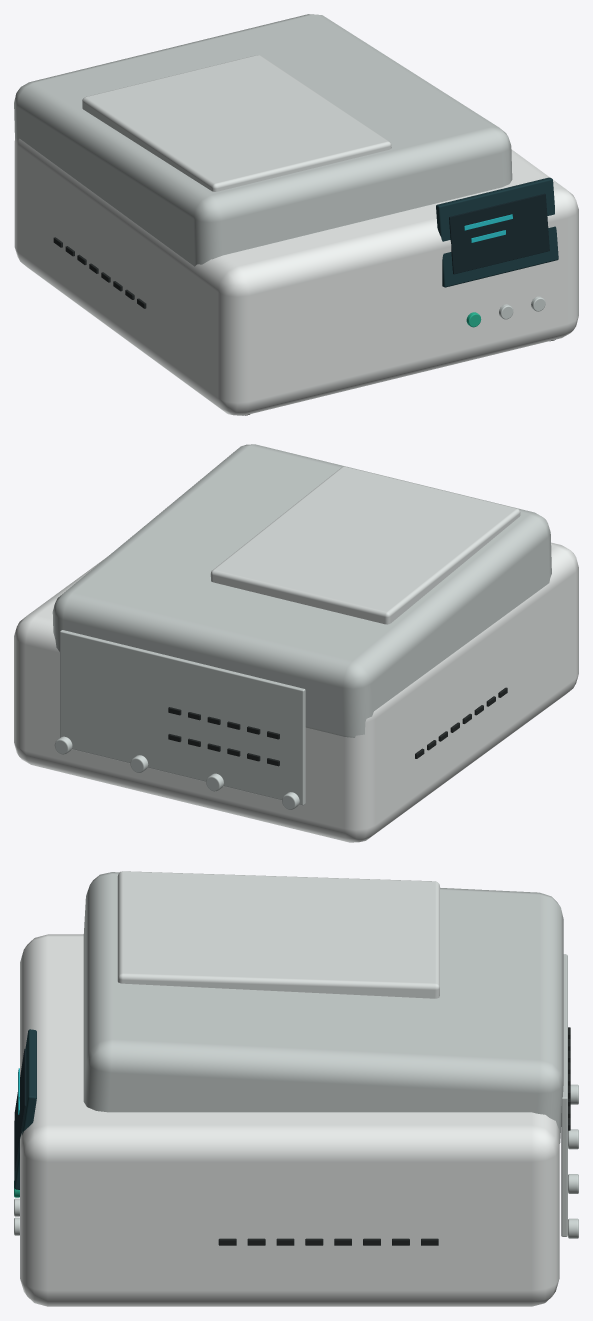
The model's file is spectrophotometer.glb.
3 renders of one model, top to bottom at view 1: azimuth 30°, elevation 25°; view 2: azimuth 150°, elevation 25°; view 3: azimuth 270°, elevation 25°, orthographic. The views are drawn at different scales.
Visible parts, largest first — view 1: Runtime batch - Cool white instrument polymer, Runtime batch - Light instrument gray powder coat, Runtime batch - Light bead-blasted aluminum, Runtime batch - Smoked instrument display glass, Runtime batch - Smoked control display, Runtime batch - Casework seam shadow; view 2: Runtime batch - Light instrument gray powder coat, Runtime batch - Cool white instrument polymer, Runtime batch - Light bead-blasted aluminum, Runtime batch - Casework seam shadow, Runtime batch - Brushed analytical silver; view 3: Runtime batch - Cool white instrument polymer, Runtime batch - Light instrument gray powder coat, Runtime batch - Light bead-blasted aluminum, Runtime batch - Casework seam shadow, Runtime batch - Smoked control display, Runtime batch - Brushed analytical silver, Runtime batch - Smoked instrument display glass.
Part boxes in pixels (bbox=[...]): Runtime batch - Cool white instrument polymer: bbox=[14, 138, 578, 415]; Runtime batch - Light instrument gray powder coat: bbox=[14, 14, 512, 266]; Runtime batch - Light bead-blasted aluminum: bbox=[82, 55, 391, 191]; Runtime batch - Smoked instrument display glass: bbox=[449, 193, 549, 274]; Runtime batch - Smoked control display: bbox=[436, 177, 558, 287]; Runtime batch - Casework seam shadow: bbox=[53, 237, 146, 308]; Runtime batch - Light instrument gray powder coat: bbox=[52, 444, 551, 805]; Runtime batch - Cool white instrument polymer: bbox=[14, 542, 578, 842]; Runtime batch - Light bead-blasted aluminum: bbox=[210, 466, 520, 624]; Runtime batch - Casework seam shadow: bbox=[168, 687, 507, 766]; Runtime batch - Brushed analytical silver: bbox=[54, 736, 299, 809]; Runtime batch - Cool white instrument polymer: bbox=[20, 934, 559, 1306]; Runtime batch - Light instrument gray powder coat: bbox=[83, 872, 567, 1236]; Runtime batch - Light bead-blasted aluminum: bbox=[117, 871, 439, 998]; Runtime batch - Casework seam shadow: bbox=[218, 1027, 570, 1245]; Runtime batch - Smoked control display: bbox=[14, 1029, 36, 1189]; Runtime batch - Brushed analytical silver: bbox=[14, 1084, 578, 1238]; Runtime batch - Smoked instrument display glass: bbox=[14, 1048, 26, 1170].
Size of the model in its own units: 0.45 by 0.2438 by 0.5.
